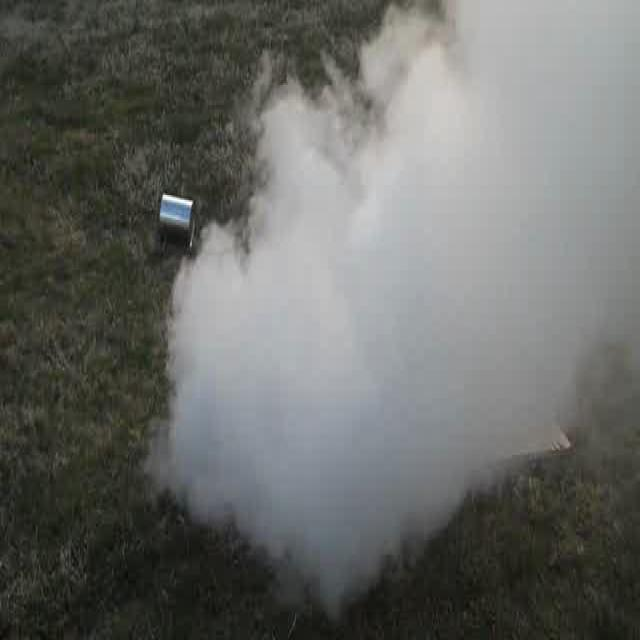Smoke: (188, 7, 636, 580)
